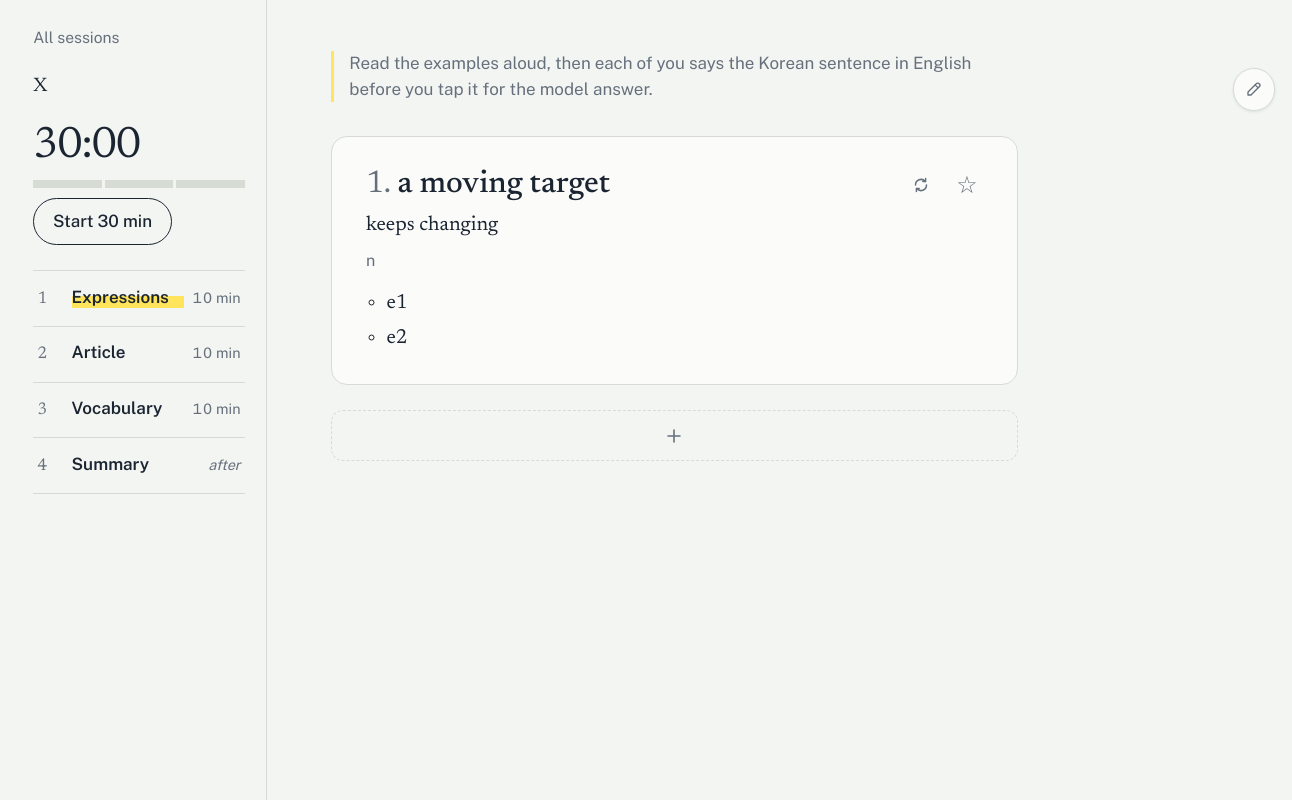
Test: SessionPage › names the picked tab in the address, and opens on Expressions without one
Expected: the heading "a moving target" is shown, [397, 169, 610, 200]
Step 1. Click the button "2 Article 10 min" → (139, 355), box [33, 327, 245, 382]
(page scrolled)
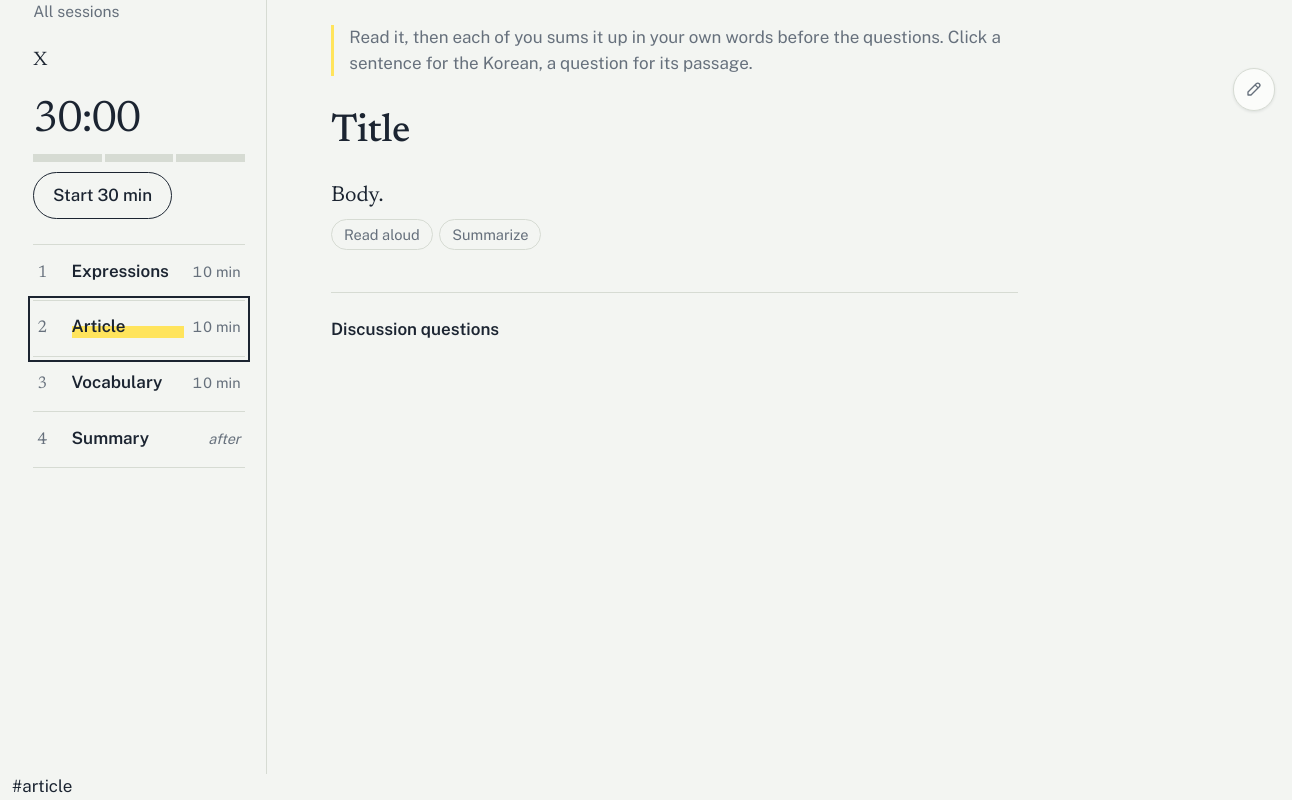
Now the text named "hash" reads "#article", box [12, 776, 72, 796]
